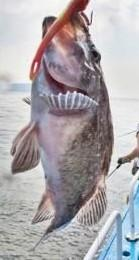fish: (11, 6, 114, 238)
